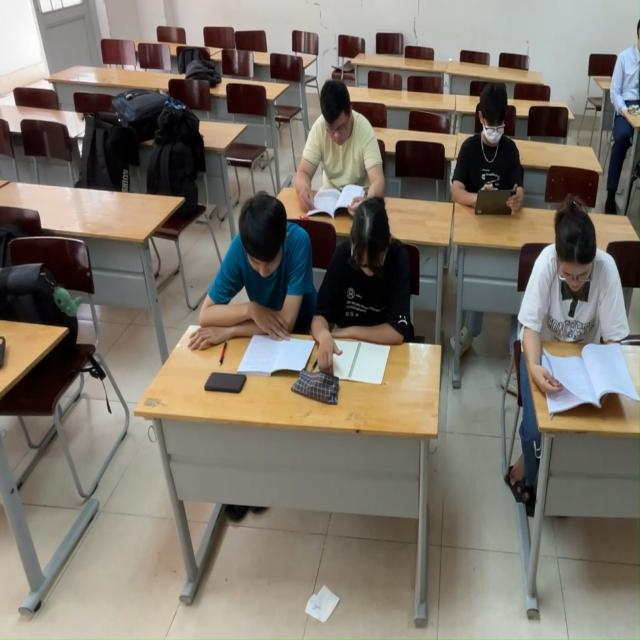read: (538, 206, 639, 427), (332, 206, 416, 404), (215, 194, 307, 371), (460, 91, 522, 236), (301, 91, 371, 214)
